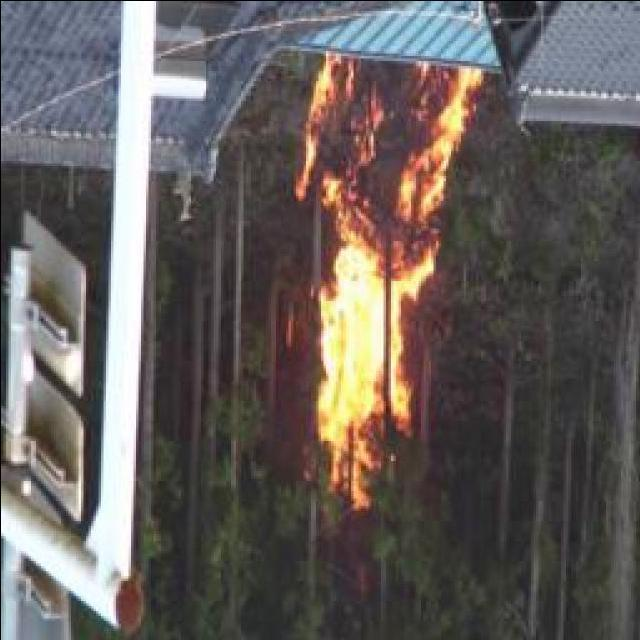Fire: (302, 44, 474, 486)
